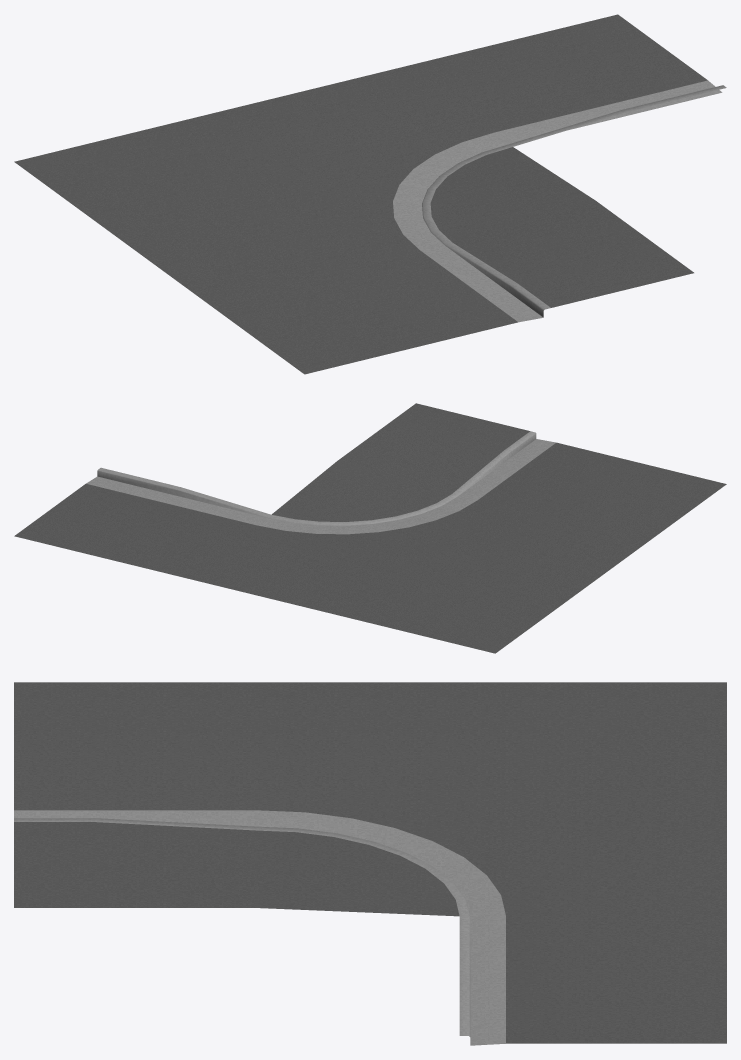
Rendered from Junction2_RoadR.glb.
3 views of the same model, one above another, from view 1: azimuth 30°, elevation 25°; view 2: azimuth 150°, elevation 25°; view 3: azimuth 270°, elevation 25° (orthographic). The views are drawn at different scales.
Visible parts, largest first — view 1: Junction2-Road-R; view 2: Junction2-Road-R; view 3: Junction2-Road-R.
Part boxes in pixels (x1=…): Junction2-Road-R: x1=14, y1=14, x2=726, y2=374; Junction2-Road-R: x1=14, y1=403, x2=726, y2=653; Junction2-Road-R: x1=14, y1=682, x2=726, y2=1045.
Bounding box in the file's own units: 12 × 0.15 × 10.
5 materials, 5 textured.
